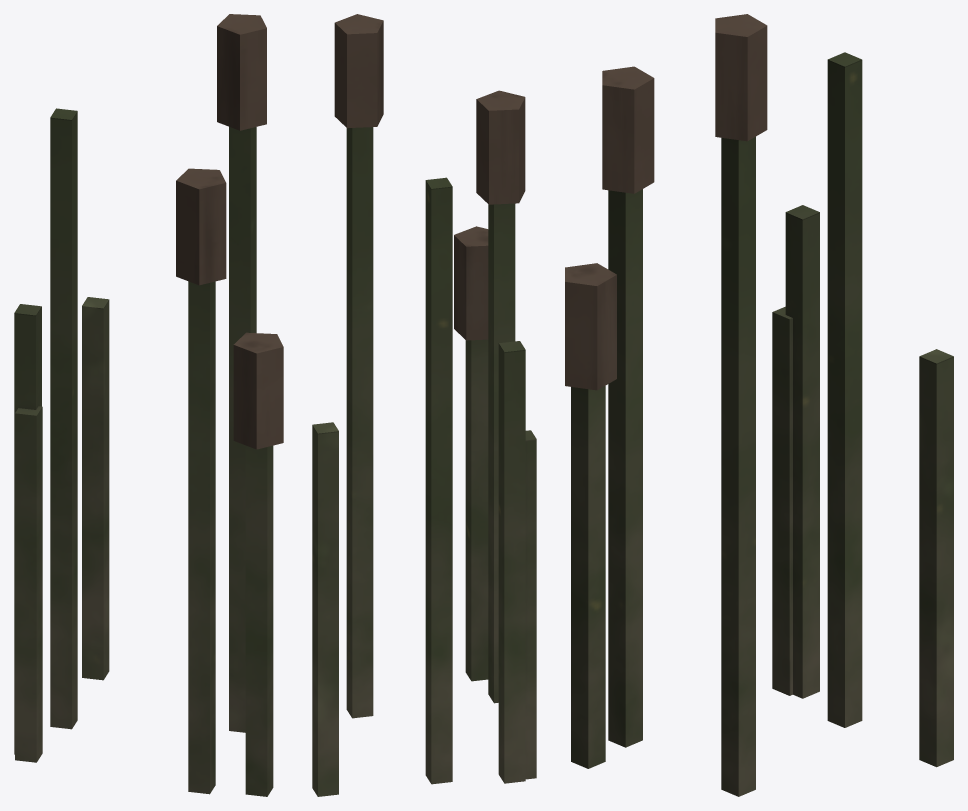
File: junco.glb
The picture shows the model from 3 angles, left to right: view 1: azimuth 30°, elevation 25°; view 2: azimuth 150°, elevation 25°; view 3: azimuth 270°, elevation 25°; orthographic projection. The views are drawn at different scales.
Visible parts, largest first — view 1: junco; view 2: junco; view 3: junco.
Boxes of the visible parts, x1,y1,x2,y2 form: junco: (14,14,283,796); junco: (312,14,536,796); junco: (565,14,953,796).
Size of the model in its own units: 0.2464 by 0.7329 by 0.338.
Materials: 1 (1 with a texture image).
